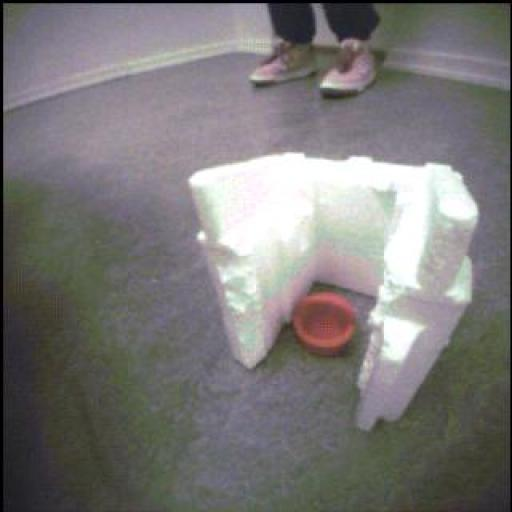Bucket: (293, 290, 359, 364)
